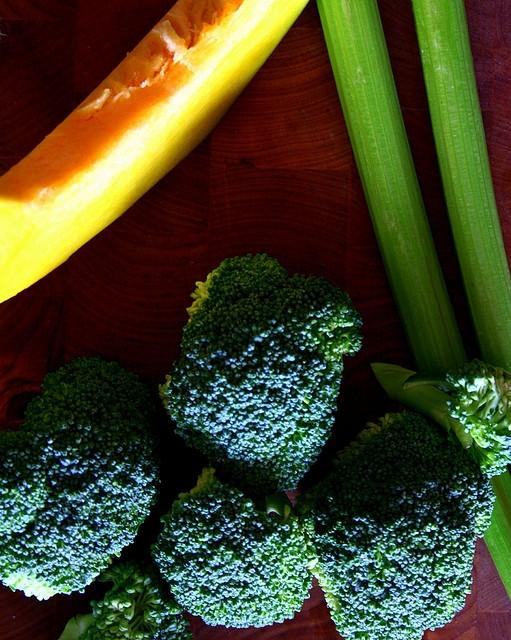broccoli: (159, 253, 362, 490), (293, 410, 497, 639), (4, 357, 162, 601), (147, 456, 319, 629), (370, 362, 510, 476), (61, 560, 196, 637)
celery: (318, 0, 511, 602), (413, 0, 511, 374)
